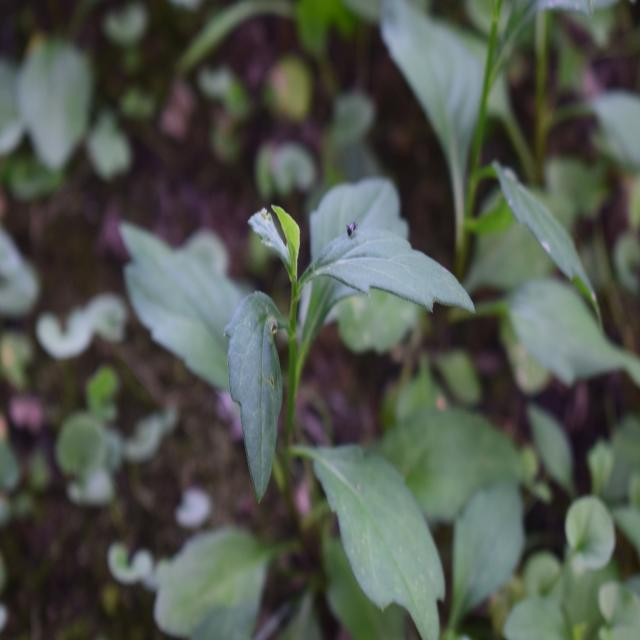Indian aster: (162, 177, 474, 620)
